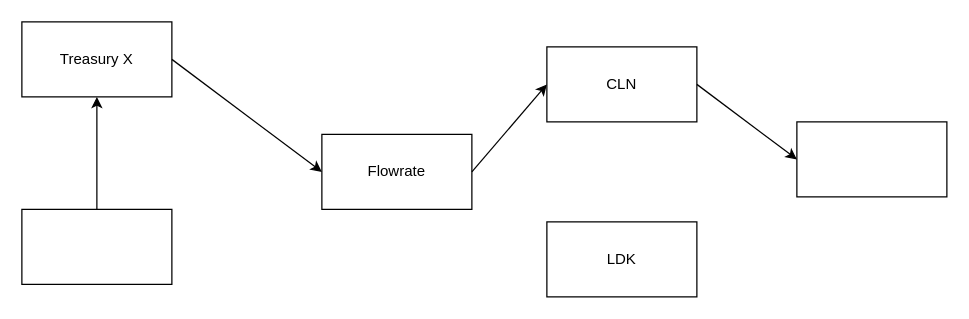
Image size: 969x319. Some labels were removed from this diagram. The centre of each missing label's shape, as x and y in pixels:
"Liquidity leaser 1" belongs at (x=96, y=246).
"VLS" belongs at (x=871, y=159).
